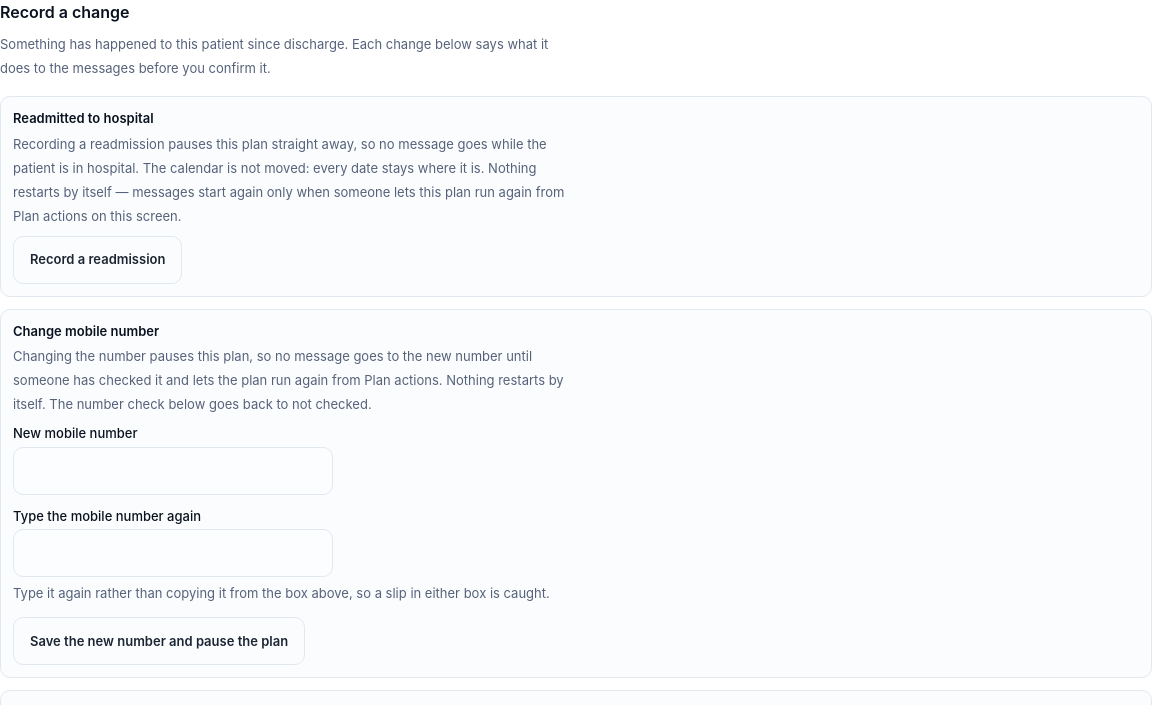
Scenario: changing the mobile number › refuses the number the plan already holds without sending anything
Type "0491 570 156" into the field labelled "New mobile number".
click(173, 471); type("0491 570 156")  # box [13,447,333,495]
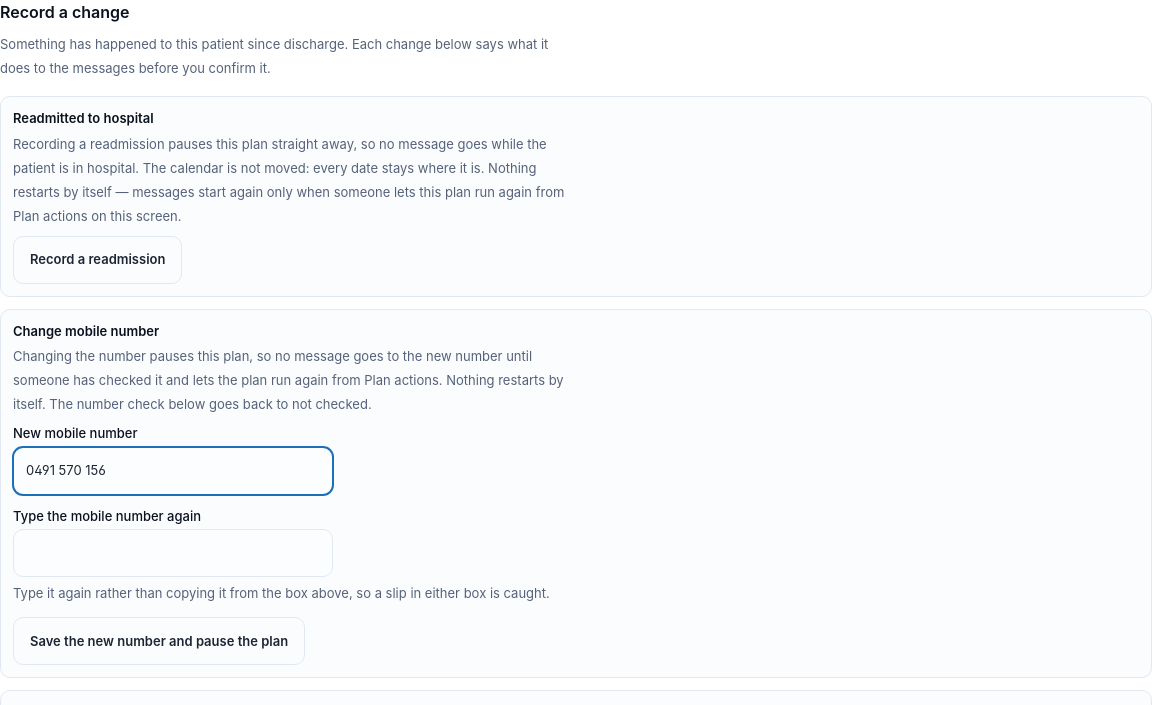
Type "0491570156" into the field labelled "Type the mobile number again".
click(173, 553); type("0491570156")  # box [13,529,333,577]
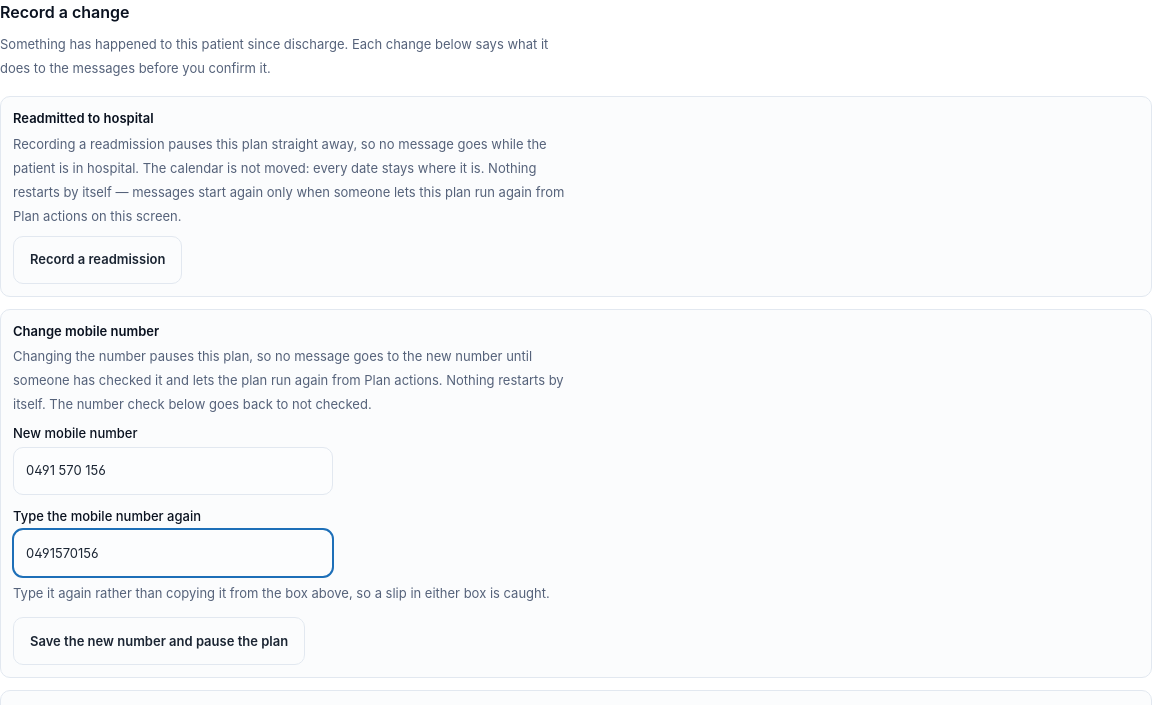
Click the button with test id "caring-contacts-update-mobile-save".
click(159, 641)  # box [13,617,305,665]
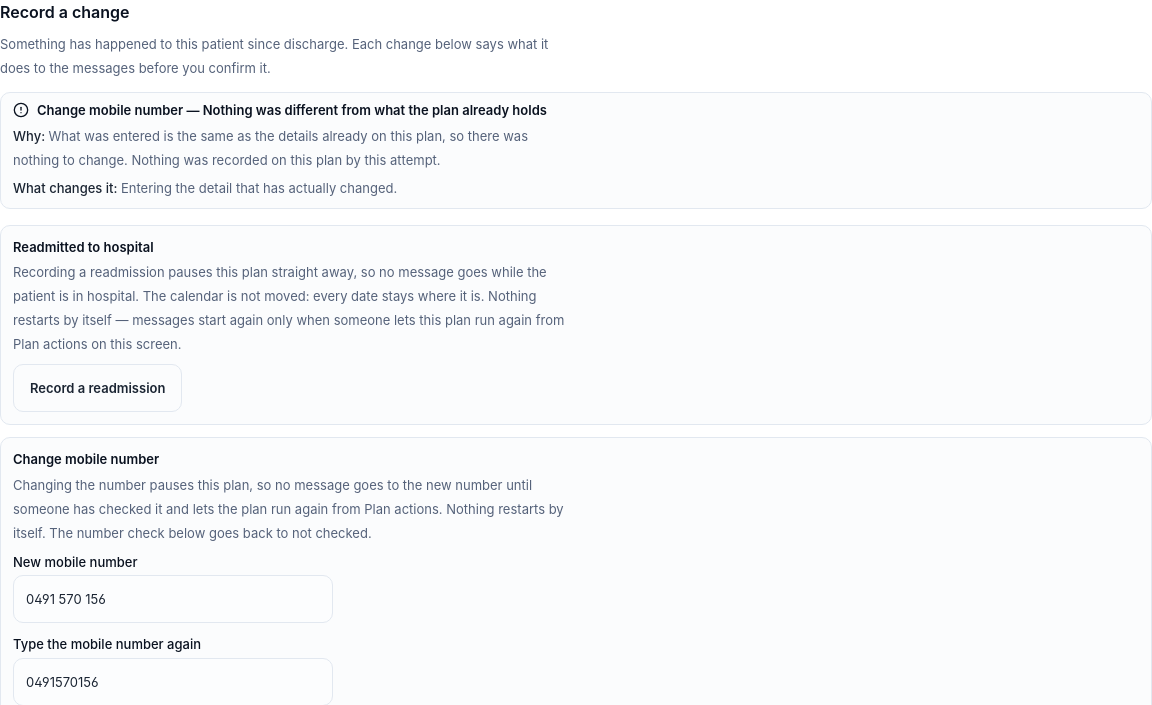
Expected: the message with test id "caring-contacts-record-a-change-outcome" shows "Nothing was different from what the plan already holds", [37,102,547,118]
